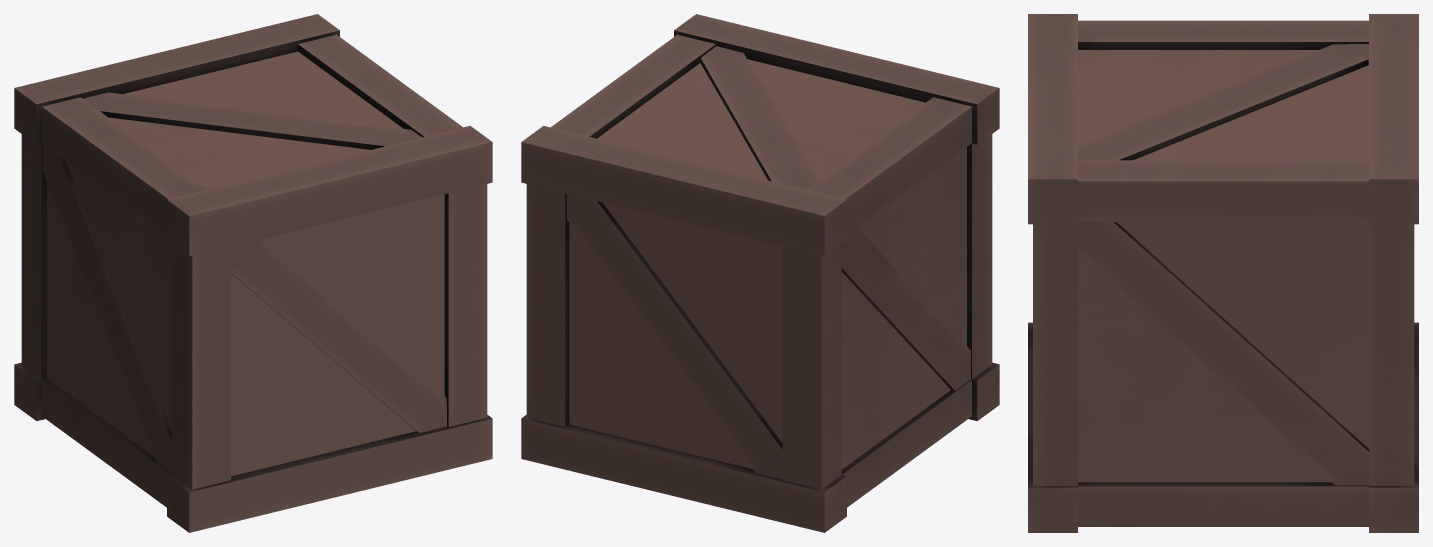
Rendered from Props_7.fbx.
3 views of the same model, side by side, from view 1: azimuth 30°, elevation 25°; view 2: azimuth 150°, elevation 25°; view 3: azimuth 270°, elevation 25° (orthographic). The views are drawn at different scales.
Parts seen in each view (by area): view 1: Props_7; view 2: Props_7; view 3: Props_7.
Boxes of the visible parts, box(x1,y1,x2,y2) form: Props_7: box(14, 14, 492, 532); Props_7: box(521, 14, 999, 532); Props_7: box(1028, 14, 1418, 532).
Size of the model in its own units: 24.68 by 24.66 by 24.63.
1 material, 1 textured.
